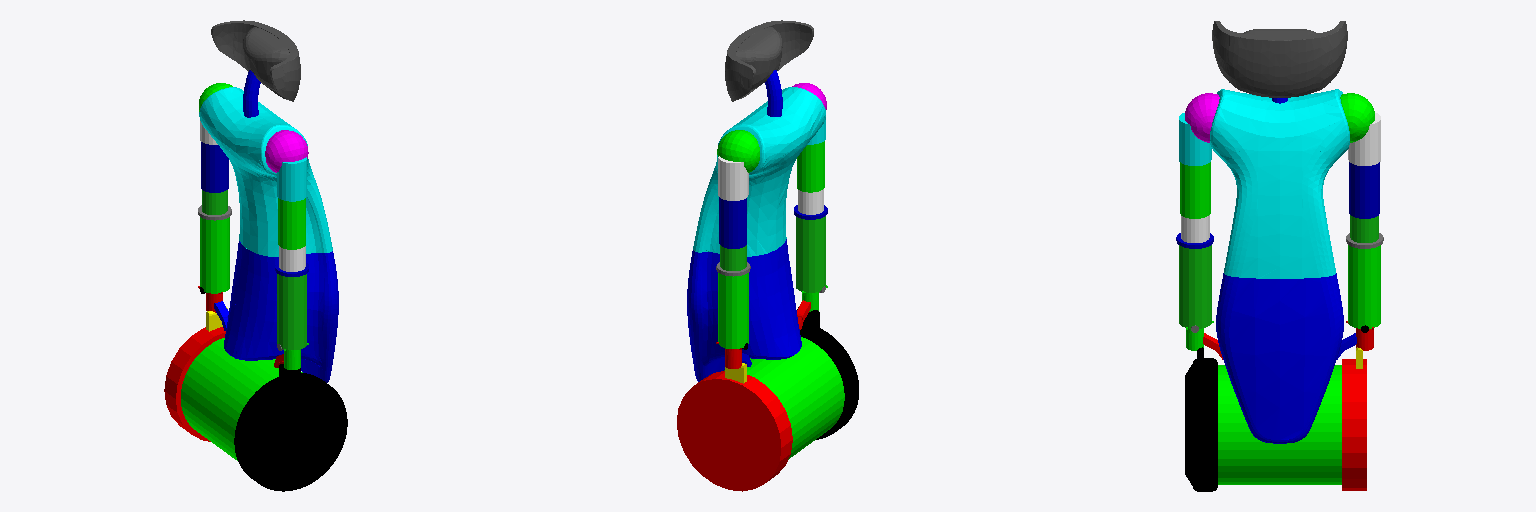
--- What the picture shows (computed from the rendered views, not written in the file) ---
The picture shows the robot from 3 angles, left to right: view 1: azimuth 30°, elevation 25°; view 2: azimuth 150°, elevation 25°; view 3: azimuth 270°, elevation 25°; orthographic projection.
Model SIM_CER_ROBOT with 48 links and 47 joints (25 revolute, 3 prismatic, 19 fixed), rooted at mobile_base_body, posed every joint at zero.
Links seen in each view (by area): view 1: mobile_base_r_tyre, torso_chest, torso_tripod_slider_eq, mobile_base_body, head, l_wrist_tripod_slider_eq, r_wrist_tripod_slider_eq, mobile_base_l_tyre, r_upperarm, l_upperarm, r_clavicle, r_shoulder (+3 smaller); view 2: mobile_base_l_tyre, torso_chest, torso_tripod_slider_eq, mobile_base_body, head, l_wrist_tripod_slider_eq, r_wrist_tripod_slider_eq, mobile_base_r_tyre, l_upperarm, r_upperarm, l_clavicle, l_shoulder (+3 smaller); view 3: torso_chest, torso_tripod_slider_eq, mobile_base_body, head, mobile_base_r_tyre, mobile_base_l_tyre, l_wrist_tripod_slider_eq, r_wrist_tripod_slider_eq, l_upperarm, r_upperarm, r_clavicle, l_clavicle (+4 smaller).
Boxes of the visible links, <box> form: mobile_base_r_tyre: <box>234,373,347,491</box>; torso_chest: <box>199,87,332,256</box>; torso_tripod_slider_eq: <box>224,241,338,382</box>; mobile_base_body: <box>181,338,302,460</box>; head: <box>211,20,300,101</box>; l_wrist_tripod_slider_eq: <box>200,217,229,293</box>; r_wrist_tripod_slider_eq: <box>277,274,306,349</box>; mobile_base_l_tyre: <box>164,327,225,441</box>; r_upperarm: <box>278,198,305,249</box>; l_upperarm: <box>201,142,228,192</box>; r_clavicle: <box>265,130,308,172</box>; r_shoulder: <box>277,157,306,201</box>; mobile_base_l_tyre: <box>677,371,792,491</box>; torso_chest: <box>693,87,825,256</box>; torso_tripod_slider_eq: <box>687,239,801,381</box>; mobile_base_body: <box>724,337,844,459</box>; head: <box>725,20,813,101</box>; l_wrist_tripod_slider_eq: <box>718,273,748,348</box>; r_wrist_tripod_slider_eq: <box>796,216,825,292</box>; mobile_base_r_tyre: <box>800,326,858,439</box>; l_upperarm: <box>719,197,746,248</box>; r_upperarm: <box>797,141,824,192</box>; l_clavicle: <box>717,130,759,172</box>; l_shoulder: <box>718,156,748,200</box>; torso_chest: <box>1210,89,1349,278</box>; torso_tripod_slider_eq: <box>1216,273,1343,443</box>; mobile_base_body: <box>1218,365,1341,484</box>; head: <box>1212,21,1347,97</box>; mobile_base_r_tyre: <box>1185,358,1217,491</box>; mobile_base_l_tyre: <box>1342,359,1366,490</box>; l_wrist_tripod_slider_eq: <box>1348,245,1380,328</box>; r_wrist_tripod_slider_eq: <box>1179,245,1211,328</box>; l_upperarm: <box>1349,162,1379,218</box>; r_upperarm: <box>1180,162,1210,218</box>; r_clavicle: <box>1185,93,1219,142</box>; l_clavicle: <box>1340,93,1374,142</box>.
Bounding box of the posed robot: 0.3563 × 0.498 × 1.22 m (x, y, z).
29 mesh visuals loaded from 29 distinct referenced files (1 binary STL, 28 ASCII STL).

URDF robot description (SIM_CER_ROBOT):
<robot name="SIM_CER_ROBOT">
  <link name="mobile_base_body">
    <inertial>
      <origin xyz="0.0167169 0 0.201998" rpy="0 0 0"/>
      <mass value="16.0"/>
      <inertia ixx="0.331884" ixy="0.0" ixz="-0.0448172" iyy="0.34974" iyz="0.0" izz="0.21095"/>
    </inertial>
    <visual>
      <origin xyz="0 0 0" rpy="0 0 0"/>
      <geometry>
        <mesh filename="model://cer/meshes/stl/sim_cer_mobilebase_body_prt.stl" scale="0.001 0.001 0.001"/>
      </geometry>
      <material name="green">
        <color rgba="0 1 0 1"/>
      </material>
    </visual>
    <collision>
      <origin xyz="0 0 0" rpy="0 0 0"/>
      <geometry>
        <mesh filename="model://cer/meshes/stl/sim_cer_mobilebase_body_prt.stl" scale="0.001 0.001 0.001"/>
      </geometry>
    </collision>
  </link>
  <link name="base_link"/>
  <joint name="base_link_fixed_joint" type="fixed">
    <origin xyz="0.074 0 0.63" rpy="0 0 0"/>
    <parent link="mobile_base_body"/>
    <child link="base_link"/>
    <dynamics damping="0.1"/>
  </joint>
  <link name="base_center"/>
  <joint name="base_center_fixed_joint" type="fixed">
    <origin xyz="0 0 0.16" rpy="0 0 0"/>
    <parent link="mobile_base_body"/>
    <child link="base_center"/>
    <dynamics damping="0.1"/>
  </joint>
  <link name="mobile_base_r_tyre">
    <inertial>
      <origin xyz="0 -0.034423 0" rpy="0 0 0"/>
      <mass value="3.0"/>
      <inertia ixx="0.0200167" ixy="0.0" ixz="0.0" iyy="0.0376153" iyz="0.0" izz="0.0200167"/>
    </inertial>
    <visual>
      <origin xyz="0 0.15 -0.16" rpy="0 0 0"/>
      <geometry>
        <mesh filename="model://cer/meshes/stl/sim_cer_mobilebase_r_tyre_prt.stl" scale="0.001 0.001 0.001"/>
      </geometry>
      <material name="black">
        <color rgba="0 0 0 1"/>
      </material>
    </visual>
    <collision>
      <origin xyz="0 0.15 -0.16" rpy="0 0 0"/>
      <geometry>
        <mesh filename="model://cer/meshes/stl/sim_cer_mobilebase_r_tyre_prt.stl" scale="0.001 0.001 0.001"/>
      </geometry>
    </collision>
  </link>
  <joint name="mobile_base_r_wheel" type="revolute">
    <origin xyz="0 -0.15 0.16" rpy="0 0 0"/>
    <axis xyz="0.0 1.0 0.0"/>
    <parent link="mobile_base_body"/>
    <child link="mobile_base_r_tyre"/>
    <limit effort="50000" lower="-17.43583922742335" upper="17.43583922742335" velocity="50000"/>
    <dynamics damping="1.0"/>
  </joint>
  <link name="mobile_base_l_tyre">
    <inertial>
      <origin xyz="0 0.034423 0" rpy="0 0 0"/>
      <mass value="3.0"/>
      <inertia ixx="0.0200167" ixy="0.0" ixz="0.0" iyy="0.0376153" iyz="0.0" izz="0.0200167"/>
    </inertial>
    <visual>
      <origin xyz="0 -0.15 -0.16" rpy="0 0 0"/>
      <geometry>
        <mesh filename="model://cer/meshes/stl/sim_cer_mobilebase_l_tyre_prt.stl" scale="0.001 0.001 0.001"/>
      </geometry>
      <material name="red">
        <color rgba="1 0 0 1"/>
      </material>
    </visual>
    <collision>
      <origin xyz="0 -0.15 -0.16" rpy="0 0 0"/>
      <geometry>
        <mesh filename="model://cer/meshes/stl/sim_cer_mobilebase_l_tyre_prt.stl" scale="0.001 0.001 0.001"/>
      </geometry>
    </collision>
  </link>
  <joint name="mobile_base_l_wheel" type="revolute">
    <origin xyz="0 0.15 0.16" rpy="0 0 0"/>
    <axis xyz="0.0 1.0 0.0"/>
    <parent link="mobile_base_body"/>
    <child link="mobile_base_l_tyre"/>
    <limit effort="50000" lower="-17.43583922742335" upper="17.43583922742335" velocity="50000"/>
    <dynamics damping="1.0"/>
  </joint>
  <link name="torso_tripod_slider_eq">
    <inertial>
      <origin xyz="0.0109861 9.13935e-06 0.236044" rpy="0 0 0"/>
      <mass value="2.5"/>
      <inertia ixx="0.0334422" ixy="0.0" ixz="0.00203295" iyy="0.0329538" iyz="2.22187e-06" izz="0.022808"/>
    </inertial>
    <visual>
      <origin xyz="-0.074 0 -0.231" rpy="0 0 0"/>
      <geometry>
        <mesh filename="model://cer/meshes/stl/sim_cer_torso_tripod_slider_eq_prt.stl" scale="0.001 0.001 0.001"/>
      </geometry>
      <material name="blue">
        <color rgba="0 0 1 1"/>
      </material>
    </visual>
    <collision>
      <origin xyz="-0.074 0 -0.231" rpy="0 0 0"/>
      <geometry>
        <mesh filename="model://cer/meshes/stl/sim_cer_torso_tripod_slider_eq_prt.stl" scale="0.001 0.001 0.001"/>
      </geometry>
    </collision>
  </link>
  <joint name="torso_tripod_heave_eq" type="prismatic">
    <origin xyz="0.074 0 0.231" rpy="0 0 0"/>
    <axis xyz="0.0 0.0 1.0"/>
    <parent link="mobile_base_body"/>
    <child link="torso_tripod_slider_eq"/>
    <limit effort="50000" lower="-0.05" upper="0.15" velocity="50000"/>
    <dynamics damping="1.0"/>
  </joint>
  <link name="torso_tripod_pin_eq">
    <inertial>
      <origin xyz="0 0 0" rpy="0 0 0"/>
      <mass value="0.25"/>
      <inertia ixx="2.8125e-05" ixy="0.0" ixz="0.0" iyy="0.000222396" iyz="0.0" izz="0.000222396"/>
    </inertial>
    <visual>
      <origin xyz="0 0 0" rpy="0 0 0"/>
      <geometry>
        <mesh filename="model://cer/meshes/stl/sim_cer_torso_tripod_pin_eq_prt.stl" scale="0.001 0.001 0.001"/>
      </geometry>
      <material name="yellow">
        <color rgba="1 1 0 1"/>
      </material>
    </visual>
    <collision>
      <origin xyz="0 0 0" rpy="0 0 0"/>
      <geometry>
        <mesh filename="model://cer/meshes/stl/sim_cer_torso_tripod_pin_eq_prt.stl" scale="0.001 0.001 0.001"/>
      </geometry>
    </collision>
  </link>
  <joint name="torso_tripod_roll_eq" type="revolute">
    <origin xyz="0 0 0.399" rpy="3.141592653589793 0 0"/>
    <axis xyz="1.0 0.0 0.0"/>
    <parent link="torso_tripod_slider_eq"/>
    <child link="torso_tripod_pin_eq"/>
    <limit effort="50000" lower="-0.5235987755982988" upper="0.5235987755982988" velocity="50000"/>
    <dynamics damping="1.0"/>
  </joint>
  <link name="torso_tripod_platform">
    <inertial>
      <origin xyz="0 0 0" rpy="0 0 0"/>
      <mass value="0.25"/>
      <inertia ixx="0.000255208" ixy="0.0" ixz="0.0" iyy="0.000255208" iyz="0.0" izz="0.00050625"/>
    </inertial>
    <visual>
      <origin xyz="-0.074 0 -0.63" rpy="0 0 0"/>
      <geometry>
        <mesh filename="model://cer/meshes/stl/sim_cer_torso_tripod_platform_prt.stl" scale="0.001 0.001 0.001"/>
      </geometry>
      <material name="pink">
        <color rgba="1 0 1 1"/>
      </material>
    </visual>
    <collision>
      <origin xyz="-0.074 0 -0.63" rpy="0 0 0"/>
      <geometry>
        <mesh filename="model://cer/meshes/stl/sim_cer_torso_tripod_platform_prt.stl" scale="0.001 0.001 0.001"/>
      </geometry>
    </collision>
  </link>
  <joint name="torso_tripod_pitch_eq" type="revolute">
    <origin xyz="0 0 0" rpy="3.141592653589793 0 0"/>
    <axis xyz="0.0 1.0 0.0"/>
    <parent link="torso_tripod_pin_eq"/>
    <child link="torso_tripod_platform"/>
    <limit effort="50000" lower="-0.5235987755982988" upper="0.5235987755982988" velocity="50000"/>
    <dynamics damping="1.0"/>
  </joint>
  <link name="oriented_xfw_ylf_zup_torso_tripod_platform"/>
  <joint name="oriented_xfw_ylf_zup_torso_tripod_platform_fixed_joint" type="fixed">
    <origin xyz="0 0 0" rpy="0 0 0"/>
    <parent link="torso_tripod_platform"/>
    <child link="oriented_xfw_ylf_zup_torso_tripod_platform"/>
    <dynamics damping="0.1"/>
  </joint>
  <link name="oriented_xbk_yrg_zup_torso_tripod_platform"/>
  <joint name="oriented_xbk_yrg_zup_torso_tripod_platform_fixed_joint" type="fixed">
    <origin xyz="0 0 0" rpy="0 0 3.141592653589793"/>
    <parent link="torso_tripod_platform"/>
    <child link="oriented_xbk_yrg_zup_torso_tripod_platform"/>
    <dynamics damping="0.1"/>
  </joint>
  <link name="torso_chest">
    <inertial>
      <origin xyz="-0.0366965 9.62228e-06 0.206634" rpy="0 0 0"/>
      <mass value="10.0"/>
      <inertia ixx="0.187606" ixy="0.0" ixz="0.0385076" iyy="0.16987" iyz="-5.48478e-06" izz="0.0906842"/>
    </inertial>
    <visual>
      <origin xyz="-0.074 0 -0.63" rpy="0 0 0"/>
      <geometry>
        <mesh filename="model://cer/meshes/stl/sim_cer_torso_chest_prt.stl" scale="0.001 0.001 0.001"/>
      </geometry>
      <material name="cyan">
        <color rgba="0 1 1 1"/>
      </material>
    </visual>
    <collision>
      <origin xyz="-0.074 0 -0.63" rpy="0 0 0"/>
      <geometry>
        <mesh filename="model://cer/meshes/stl/sim_cer_torso_chest_prt.stl" scale="0.001 0.001 0.001"/>
      </geometry>
    </collision>
  </link>
  <joint name="torso_yaw" type="revolute">
    <origin xyz="0 0 0" rpy="0 0 0"/>
    <axis xyz="0.0 0.0 1.0"/>
    <parent link="torso_tripod_platform"/>
    <child link="torso_chest"/>
    <limit effort="50000" lower="-1.0471975511965976" upper="1.0471975511965976" velocity="50000"/>
    <dynamics damping="1.0"/>
  </joint>
  <link name="torso"/>
  <joint name="torso_fixed_joint" type="fixed">
    <origin xyz="-0.042 0 0.17" rpy="0 0 0"/>
    <parent link="torso_chest"/>
    <child link="torso"/>
    <dynamics damping="0.1"/>
  </joint>
  <link name="l_clavicle">
    <inertial>
      <origin xyz="0 0 0" rpy="0 0 0"/>
      <mass value="0.2"/>
      <inertia ixx="0.000288" ixy="0.0" ixz="0.0" iyy="0.000288" iyz="0.0" izz="0.000288"/>
    </inertial>
    <visual>
      <origin xyz="0.01 -0.17 -0.97" rpy="0 0 0"/>
      <geometry>
        <mesh filename="model://cer/meshes/stl/sim_cer_l_clavicle_prt.stl" scale="0.001 0.001 0.001"/>
      </geometry>
      <material name="green"/>
    </visual>
    <collision>
      <origin xyz="0.01 -0.17 -0.97" rpy="0 0 0"/>
      <geometry>
        <mesh filename="model://cer/meshes/stl/sim_cer_l_clavicle_prt.stl" scale="0.001 0.001 0.001"/>
      </geometry>
    </collision>
  </link>
  <joint name="l_shoulder_pitch" type="revolute">
    <origin xyz="-0.084 0.17 0.34" rpy="0 0 0"/>
    <axis xyz="0.0 -0.970296 -0.241922"/>
    <parent link="torso_chest"/>
    <child link="l_clavicle"/>
    <limit effort="50000" lower="-0.3490658503988659" upper="1.7453292519943295" velocity="50000"/>
    <dynamics damping="1.0"/>
  </joint>
  <link name="l_shoulder">
    <inertial>
      <origin xyz="0 0.034 -0.055" rpy="0 0 0"/>
      <mass value="1.0"/>
      <inertia ixx="0.00140833" ixy="0.0" ixz="0.0" iyy="0.00140833" iyz="0.0" izz="0.0008"/>
    </inertial>
    <visual>
      <origin xyz="0.01 -0.17 -0.97" rpy="0 0 0"/>
      <geometry>
        <mesh filename="model://cer/meshes/stl/sim_cer_l_shoulder_prt.stl" scale="0.001 0.001 0.001"/>
      </geometry>
      <material name="white">
        <color rgba="1 1 1 1"/>
      </material>
    </visual>
    <collision>
      <origin xyz="0.01 -0.17 -0.97" rpy="0 0 0"/>
      <geometry>
        <mesh filename="model://cer/meshes/stl/sim_cer_l_shoulder_prt.stl" scale="0.001 0.001 0.001"/>
      </geometry>
    </collision>
  </link>
  <joint name="l_shoulder_roll" type="revolute">
    <origin xyz="0 0 0" rpy="0 0 0"/>
    <axis xyz="1.0 0.0 0.0"/>
    <parent link="l_clavicle"/>
    <child link="l_shoulder"/>
    <limit effort="50000" lower="-0.17453292519943295" upper="1.7453292519943295" velocity="50000"/>
    <dynamics damping="1.0"/>
  </joint>
  <link name="l_upperarm">
    <inertial>
      <origin xyz="0 0 -0.0705" rpy="0 0 0"/>
      <mass value="1.0"/>
      <inertia ixx="0.00200831" ixy="0.0" ixz="0.0" iyy="0.00200831" iyz="0.0" izz="0.000703125"/>
    </inertial>
    <visual>
      <origin xyz="0.01 -0.204 -0.86" rpy="0 0 0"/>
      <geometry>
        <mesh filename="model://cer/meshes/stl/sim_cer_l_upperarm_prt.stl" scale="0.001 0.001 0.001"/>
      </geometry>
      <material name="dblue">
        <color rgba="0 0 0.8 1"/>
      </material>
    </visual>
    <collision>
      <origin xyz="0.01 -0.204 -0.86" rpy="0 0 0"/>
      <geometry>
        <mesh filename="model://cer/meshes/stl/sim_cer_l_upperarm_prt.stl" scale="0.001 0.001 0.001"/>
      </geometry>
    </collision>
  </link>
  <joint name="l_shoulder_yaw" type="revolute">
    <origin xyz="0 0.034 -0.11" rpy="0 0 0"/>
    <axis xyz="0.0 0.0 1.0"/>
    <parent link="l_shoulder"/>
    <child link="l_upperarm"/>
    <limit effort="50000" lower="-1.5707963267948966" upper="1.5707963267948966" velocity="50000"/>
    <dynamics damping="1.0"/>
  </joint>
  <link name="l_forearm">
    <inertial>
      <origin xyz="0 0 -0.0355" rpy="0 0 0"/>
      <mass value="0.5"/>
      <inertia ixx="0.000363167" ixy="0.0" ixz="0.0" iyy="0.000363167" iyz="0.0" izz="0.00030625"/>
    </inertial>
    <visual>
      <origin xyz="0.01 -0.204 -0.719" rpy="0 0 0"/>
      <geometry>
        <mesh filename="model://cer/meshes/stl/sim_cer_l_forearm_prt.stl" scale="0.001 0.001 0.001"/>
      </geometry>
      <material name="dgreen">
        <color rgba="0.1 0.8 0.1 1"/>
      </material>
    </visual>
    <collision>
      <origin xyz="0.01 -0.204 -0.719" rpy="0 0 0"/>
      <geometry>
        <mesh filename="model://cer/meshes/stl/sim_cer_l_forearm_prt.stl" scale="0.001 0.001 0.001"/>
      </geometry>
    </collision>
  </link>
  <joint name="l_elbow" type="revolute">
    <origin xyz="0 0 -0.141" rpy="0 0 0"/>
    <axis xyz="0.0 -1.0 0.0"/>
    <parent link="l_upperarm"/>
    <child link="l_forearm"/>
    <limit effort="50000" lower="0.0" upper="2.443460952792061" velocity="50000"/>
    <dynamics damping="1.0"/>
  </joint>
  <link name="l_wrist_tripod_base">
    <inertial>
      <origin xyz="0 0 0" rpy="0 0 0"/>
      <mass value="0.2"/>
      <inertia ixx="0.000102917" ixy="0.0" ixz="0.0" iyy="0.000102917" iyz="0.0" izz="0.0002025"/>
    </inertial>
    <visual>
      <origin xyz="0.01 -0.204 -0.648" rpy="0 0 0"/>
      <geometry>
        <mesh filename="model://cer/meshes/stl/sim_cer_l_wrist_tripod_base_prt.stl" scale="0.001 0.001 0.001"/>
      </geometry>
      <material name="gray">
        <color rgba="0.5 0.5 0.5 1"/>
      </material>
    </visual>
    <collision>
      <origin xyz="0.01 -0.204 -0.648" rpy="0 0 0"/>
      <geometry>
        <mesh filename="model://cer/meshes/stl/sim_cer_l_wrist_tripod_base_prt.stl" scale="0.001 0.001 0.001"/>
      </geometry>
    </collision>
  </link>
  <joint name="l_wrist_prosupination" type="revolute">
    <origin xyz="0 0 -0.071" rpy="0 0 0"/>
    <axis xyz="0.0 0.0 1.0"/>
    <parent link="l_forearm"/>
    <child link="l_wrist_tripod_base"/>
    <limit effort="50000" lower="-1.5707963267948966" upper="1.5707963267948966" velocity="50000"/>
    <dynamics damping="1.0"/>
  </joint>
  <link name="oriented_l_wrist_tripodbase"/>
  <joint name="oriented_l_wrist_tripodbase_fixed_joint" type="fixed">
    <origin xyz="0 0 0" rpy="3.141592653589793 0 -1.5707963267948966"/>
    <parent link="l_wrist_tripod_base"/>
    <child link="oriented_l_wrist_tripodbase"/>
    <dynamics damping="0.1"/>
  </joint>
  <link name="l_wrist_tripod_slider_eq">
    <inertial>
      <origin xyz="0 0 -0.181" rpy="0 0 0"/>
      <mass value="0.2"/>
      <inertia ixx="0.000886667" ixy="0.0" ixz="0.0" iyy="0.000886667" iyz="0.0" izz="0.00016"/>
    </inertial>
    <visual>
      <origin xyz="0.01 -0.204 -0.719" rpy="0 0 0"/>
      <geometry>
        <mesh filename="model://cer/meshes/stl/sim_cer_l_wrist_tripod_slider_prt.stl" scale="0.001 0.001 0.001"/>
      </geometry>
      <material name="green"/>
    </visual>
    <collision>
      <origin xyz="0.01 -0.204 -0.719" rpy="0 0 0"/>
      <geometry>
        <mesh filename="model://cer/meshes/stl/sim_cer_l_wrist_tripod_slider_prt.stl" scale="0.001 0.001 0.001"/>
      </geometry>
    </collision>
  </link>
  <joint name="l_wrist_tripod_heave_eq" type="prismatic">
    <origin xyz="0 0 0.071" rpy="0 0 0"/>
    <axis xyz="0.0 0.0 -1.0"/>
    <parent link="l_wrist_tripod_base"/>
    <child link="l_wrist_tripod_slider_eq"/>
    <limit effort="50000" lower="0.0" upper="0.12" velocity="50000"/>
    <dynamics damping="1.0"/>
  </joint>
  <link name="l_wrist_tripod_pin_eq">
    <inertial>
      <origin xyz="0 0 0" rpy="0 0 0"/>
      <mass value="0.2"/>
      <inertia ixx="0.000111667" ixy="0.0" ixz="0.0" iyy="0.000111667" iyz="0.0" izz="1e-05"/>
    </inertial>
    <visual>
      <origin xyz="0 0 0" rpy="0 0 0"/>
      <geometry>
        <mesh filename="model://cer/meshes/stl/sim_cer_l_wrist_tripod_pin_eq_prt.stl" scale="0.001 0.001 0.001"/>
      </geometry>
      <material name="black"/>
    </visual>
    <collision>
      <origin xyz="0 0 0" rpy="0 0 0"/>
      <geometry>
        <mesh filename="model://cer/meshes/stl/sim_cer_l_wrist_tripod_pin_eq_prt.stl" scale="0.001 0.001 0.001"/>
      </geometry>
    </collision>
  </link>
  <joint name="l_wrist_tripod_roll_eq" type="revolute">
    <origin xyz="0 0 -0.291" rpy="0 1.5707963267948966 0"/>
    <axis xyz="0.0 0.0 1.0"/>
    <parent link="l_wrist_tripod_slider_eq"/>
    <child link="l_wrist_tripod_pin_eq"/>
    <limit effort="50000" lower="-0.5235987755982988" upper="0.5235987755982988" velocity="50000"/>
    <dynamics damping="1.0"/>
  </joint>
  <link name="l_hand_root">
    <inertial>
      <origin xyz="0 -0.001 -0.030193" rpy="0 0 0"/>
      <mass value="0.5"/>
      <inertia ixx="0.000277843" ixy="0.0" ixz="0.0" iyy="0.000277843" iyz="0.0" izz="0.000141191"/>
    </inertial>
    <visual>
      <origin xyz="0.01 -0.205 -0.428" rpy="0 0 0"/>
      <geometry>
        <mesh filename="model://cer/meshes/stl/sim_cer_l_hand_root_prt.stl" scale="0.001 0.001 0.001"/>
      </geometry>
      <material name="red"/>
    </visual>
    <collision>
      <origin xyz="0.01 -0.205 -0.428" rpy="0 0 0"/>
      <geometry>
        <mesh filename="model://cer/meshes/stl/sim_cer_l_hand_root_prt.stl" scale="0.001 0.001 0.001"/>
      </geometry>
    </collision>
  </link>
  <joint name="l_wrist_tripod_pitch_eq" type="revolute">
    <origin xyz="0 0.001 0" rpy="0 -1.5707963267948966 0"/>
    <axis xyz="0.0 -1.0 0.0"/>
    <parent link="l_wrist_tripod_pin_eq"/>
    <child link="l_hand_root"/>
    <limit effort="50000" lower="-0.5235987755982988" upper="0.5235987755982988" velocity="50000"/>
    <dynamics damping="1.0"/>
  </joint>
  <link name="l_wrist"/>
  <joint name="l_wrist_fixed_joint" type="fixed">
    <origin xyz="0 -0.001 0" rpy="0 0 0"/>
    <parent link="l_hand_root"/>
    <child link="l_wrist"/>
    <dynamics damping="0.1"/>
  </joint>
  <link name="l_gripper"/>
  <joint name="l_gripper_fixed_joint" type="fixed">
    <origin xyz="0 -0.024941 -0.065778" rpy="3.141592653589793 1.221730955967807 -1.5707963267948968"/>
    <parent link="l_hand_root"/>
    <child link="l_gripper"/>
    <dynamics damping="0.1"/>
  </joint>
  <link name="l_hand_thumb">
    <inertial>
      <origin xyz="0 -0.0257160000315 -0.0184639999562" rpy="0 0 0"/>
      <mass value="0.1"/>
      <inertia ixx="5.68818e-05" ixy="0.0" ixz="0.0" iyy="2.87259e-05" iyz="-2.49756e-05" izz="3.69449e-05"/>
    </inertial>
    <visual>
      <origin xyz="0.01 -0.184352 -0.385156" rpy="0 0 0"/>
      <geometry>
        <mesh filename="model://cer/meshes/stl/sim_cer_l_hand_thumb_prt.stl" scale="0.001 0.001 0.001"/>
      </geometry>
      <material name="blue"/>
    </visual>
    <collision>
      <origin xyz="0.01 -0.184352 -0.385156" rpy="0 0 0"/>
      <geometry>
        <mesh filename="model://cer/meshes/stl/sim_cer_l_hand_thumb_prt.stl" scale="0.001 0.001 0.001"/>
      </geometry>
    </collision>
  </link>
  <joint name="l_hand_thumb_joint" type="revolute">
    <origin xyz="0 -0.020648 -0.042844" rpy="0 0 0"/>
    <axis xyz="1.0 0.0 0.0"/>
    <parent link="l_hand_root"/>
    <child link="l_hand_thumb"/>
    <limit effort="50000" lower="0.0" upper="1.2217304763960306" velocity="50000"/>
    <dynamics damping="1.0"/>
  </joint>
  <link name="l_hand_thumb_tip"/>
  <joint name="l_hand_thumb_tip_fixed_joint" type="fixed">
    <origin xyz="0 -0.0513860000782 -0.0458929999125" rpy="3.141592653589793 1.2217309542643466 -1.570796326794897"/>
    <parent link="l_hand_thumb"/>
    <child link="l_hand_thumb_tip"/>
    <dynamics damping="0.1"/>
  </joint>
  <link name="l_hand_paddle">
    <inertial>
      <origin xyz="0 0 -0.0387" rpy="0 0 0"/>
      <mass value="0.1"/>
      <inertia ixx="7.95585e-05" ixy="0.0" ixz="0.0" iyy="0.000102575" iyz="0.0" izz="2.78549e-05"/>
    </inertial>
    <visual>
      <origin xyz="0.01 -0.19139 -0.360023" rpy="0 0 0"/>
      <geometry>
        <mesh filename="model://cer/meshes/stl/sim_cer_l_hand_paddle_prt.stl" scale="0.001 0.001 0.001"/>
      </geometry>
      <material name="yellow"/>
    </visual>
    <collision>
      <origin xyz="0.01 -0.19139 -0.360023" rpy="0 0 0"/>
      <geometry>
        <mesh filename="model://cer/meshes/stl/sim_cer_l_hand_paddle_prt.stl" scale="0.001 0.001 0.001"/>
      </geometry>
    </collision>
  </link>
  <joint name="l_hand_paddle_joint" type="revolute">
    <origin xyz="0 -0.01361 -0.067977" rpy="0 0 0"/>
    <axis xyz="-1.0 0.0 0.0"/>
    <parent link="l_hand_root"/>
    <child link="l_hand_paddle"/>
    <limit effort="50000" lower="0.0" upper="1.0471975511965976" velocity="50000"/>
    <dynamics damping="1.0"/>
  </joint>
  <link name="l_hand_paddle_tip"/>
  <joint name="l_hand_paddle_tip_fixed_joint" type="fixed">
    <origin xyz="0 0 -0.084994" rpy="3.141592653589793 1.221730955967807 -1.5707963267948968"/>
    <parent link="l_hand_paddle"/>
    <child link="l_hand_paddle_tip"/>
    <dynamics damping="0.1"/>
  </joint>
  <link name="r_clavicle">
    <inertial>
      <origin xyz="0 0 0" rpy="0 0 0"/>
      <mass value="0.2"/>
      <inertia ixx="0.000288" ixy="0.0" ixz="0.0" iyy="0.000288" iyz="0.0" izz="0.000288"/>
    </inertial>
    <visual>
      <origin xyz="0.01 0.17 -0.97" rpy="0 0 0"/>
      <geometry>
        <mesh filename="model://cer/meshes/stl/sim_cer_r_clavicle_prt.stl" scale="0.001 0.001 0.001"/>
      </geometry>
      <material name="pink"/>
    </visual>
    <collision>
      <origin xyz="0.01 0.17 -0.97" rpy="0 0 0"/>
      <geometry>
        <mesh filename="model://cer/meshes/stl/sim_cer_r_clavicle_prt.stl" scale="0.001 0.001 0.001"/>
      </geometry>
    </collision>
  </link>
  <joint name="r_shoulder_pitch" type="revolute">
    <origin xyz="-0.084 -0.17 0.34" rpy="0 0 0"/>
    <axis xyz="0.0 -0.970296 0.241922"/>
    <parent link="torso_chest"/>
    <child link="r_clavicle"/>
    <limit effort="50000" lower="-0.3490658503988659" upper="1.7453292519943295" velocity="50000"/>
    <dynamics damping="1.0"/>
  </joint>
  <link name="r_shoulder">
    <inertial>
      <origin xyz="0 -0.034 -0.055" rpy="0 0 0"/>
      <mass value="1.0"/>
      <inertia ixx="0.00140833" ixy="0.0" ixz="0.0" iyy="0.00140833" iyz="0.0" izz="0.0008"/>
    </inertial>
    <visual>
      <origin xyz="0.01 0.17 -0.97" rpy="0 0 0"/>
      <geometry>
        <mesh filename="model://cer/meshes/stl/sim_cer_r_shoulder_prt.stl" scale="0.001 0.001 0.001"/>
      </geometry>
      <material name="cyan"/>
    </visual>
    <collision>
      <origin xyz="0.01 0.17 -0.97" rpy="0 0 0"/>
      <geometry>
        <mesh filename="model://cer/meshes/stl/sim_cer_r_shoulder_prt.stl" scale="0.001 0.001 0.001"/>
      </geometry>
    </collision>
  </link>
  <joint name="r_shoulder_roll" type="revolute">
    <origin xyz="0 0 0" rpy="0 0 0"/>
    <axis xyz="-1.0 0.0 0.0"/>
    <parent link="r_clavicle"/>
    <child link="r_shoulder"/>
    <limit effort="50000" lower="-0.17453292519943295" upper="1.7453292519943295" velocity="50000"/>
    <dynamics damping="1.0"/>
  </joint>
  <link name="r_upperarm">
    <inertial>
      <origin xyz="0 0 -0.0705" rpy="0 0 0"/>
      <mass value="1.0"/>
      <inertia ixx="0.00200831" ixy="0.0" ixz="0.0" iyy="0.00200831" iyz="0.0" izz="0.000703125"/>
    </inertial>
    <visual>
      <origin xyz="0.01 0.204 -0.86" rpy="0 0 0"/>
      <geometry>
        <mesh filename="model://cer/meshes/stl/sim_cer_r_upperarm_prt.stl" scale="0.001 0.001 0.001"/>
      </geometry>
      <material name="green"/>
    </visual>
    <collision>
      <origin xyz="0.01 0.204 -0.86" rpy="0 0 0"/>
      <geometry>
        <mesh filename="model://cer/meshes/stl/sim_cer_r_upperarm_prt.stl" scale="0.001 0.001 0.001"/>
      </geometry>
    </collision>
  </link>
  <joint name="r_shoulder_yaw" type="revolute">
    <origin xyz="0 -0.034 -0.11" rpy="0 0 0"/>
    <axis xyz="0.0 0.0 -1.0"/>
    <parent link="r_shoulder"/>
    <child link="r_upperarm"/>
    <limit effort="50000" lower="-1.5707963267948966" upper="1.5707963267948966" velocity="50000"/>
    <dynamics damping="1.0"/>
  </joint>
  <link name="r_forearm">
    <inertial>
      <origin xyz="0 0 -0.0355" rpy="0 0 0"/>
      <mass value="0.5"/>
      <inertia ixx="0.000363167" ixy="0.0" ixz="0.0" iyy="0.000363167" iyz="0.0" izz="0.00030625"/>
    </inertial>
    <visual>
      <origin xyz="0.01 0.204 -0.719" rpy="0 0 0"/>
      <geometry>
        <mesh filename="model://cer/meshes/stl/sim_cer_r_forearm_prt.stl" scale="0.001 0.001 0.001"/>
      </geometry>
      <material name="white"/>
    </visual>
    <collision>
      <origin xyz="0.01 0.204 -0.719" rpy="0 0 0"/>
      <geometry>
        <mesh filename="model://cer/meshes/stl/sim_cer_r_forearm_prt.stl" scale="0.001 0.001 0.001"/>
      </geometry>
    </collision>
  </link>
  <joint name="r_elbow" type="revolute">
    <origin xyz="0 0 -0.141" rpy="0 0 0"/>
    <axis xyz="0.0 -1.0 0.0"/>
    <parent link="r_upperarm"/>
    <child link="r_forearm"/>
    <limit effort="50000" lower="0.0" upper="2.443460952792061" velocity="50000"/>
    <dynamics damping="1.0"/>
  </joint>
  <link name="r_wrist_tripod_base">
    <inertial>
      <origin xyz="0 0 0" rpy="0 0 0"/>
      <mass value="0.2"/>
      <inertia ixx="0.000102917" ixy="0.0" ixz="0.0" iyy="0.000102917" iyz="0.0" izz="0.0002025"/>
    </inertial>
    <visual>
      <origin xyz="0.01 0.204 -0.648" rpy="0 0 0"/>
      <geometry>
        <mesh filename="model://cer/meshes/stl/sim_cer_r_wrist_tripod_base_prt.stl" scale="0.001 0.001 0.001"/>
      </geometry>
      <material name="dblue"/>
    </visual>
    <collision>
      <origin xyz="0.01 0.204 -0.648" rpy="0 0 0"/>
      <geometry>
        <mesh filename="model://cer/meshes/stl/sim_cer_r_wrist_tripod_base_prt.stl" scale="0.001 0.001 0.001"/>
      </geometry>
    </collision>
  </link>
  <joint name="r_wrist_prosupination" type="revolute">
    <origin xyz="0 0 -0.071" rpy="0 0 0"/>
    <axis xyz="0.0 0.0 -1.0"/>
    <parent link="r_forearm"/>
    <child link="r_wrist_tripod_base"/>
    <limit effort="50000" lower="-1.5707963267948966" upper="1.5707963267948966" velocity="50000"/>
    <dynamics damping="1.0"/>
  </joint>
  <link name="oriented_r_wrist_tripodbase"/>
  <joint name="oriented_r_wrist_tripodbase_fixed_joint" type="fixed">
    <origin xyz="0 0 0" rpy="3.141592653589793 0 1.5707963267948966"/>
    <parent link="r_wrist_tripod_base"/>
    <child link="oriented_r_wrist_tripodbase"/>
    <dynamics damping="0.1"/>
  </joint>
  <link name="r_wrist_tripod_slider_eq">
    <inertial>
      <origin xyz="0 0 -0.181" rpy="0 0 0"/>
      <mass value="0.2"/>
      <inertia ixx="0.000886667" ixy="0.0" ixz="0.0" iyy="0.000886667" iyz="0.0" izz="0.00016"/>
    </inertial>
    <visual>
      <origin xyz="0.01 0.204 -0.719" rpy="0 0 0"/>
      <geometry>
        <mesh filename="model://cer/meshes/stl/sim_cer_r_wrist_tripod_slider_prt.stl" scale="0.001 0.001 0.001"/>
      </geometry>
      <material name="dgreen"/>
    </visual>
    <collision>
      <origin xyz="0.01 0.204 -0.719" rpy="0 0 0"/>
      <geometry>
        <mesh filename="model://cer/meshes/stl/sim_cer_r_wrist_tripod_slider_prt.stl" scale="0.001 0.001 0.001"/>
      </geometry>
    </collision>
  </link>
  <joint name="r_wrist_tripod_heave_eq" type="prismatic">
    <origin xyz="0 0 0.071" rpy="0 0 0"/>
    <axis xyz="0.0 0.0 -1.0"/>
    <parent link="r_wrist_tripod_base"/>
    <child link="r_wrist_tripod_slider_eq"/>
    <limit effort="50000" lower="0.0" upper="0.12" velocity="50000"/>
    <dynamics damping="1.0"/>
  </joint>
  <link name="r_wrist_tripod_pin_eq">
    <inertial>
      <origin xyz="0 0 0" rpy="0 0 0"/>
      <mass value="0.2"/>
      <inertia ixx="0.000111667" ixy="0.0" ixz="0.0" iyy="1e-05" iyz="0.0" izz="0.000111667"/>
    </inertial>
    <visual>
      <origin xyz="0 0 0" rpy="0 0 0"/>
      <geometry>
        <mesh filename="model://cer/meshes/stl/sim_cer_r_wrist_tripod_pin_eq_prt.stl" scale="0.001 0.001 0.001"/>
      </geometry>
      <material name="gray"/>
    </visual>
    <collision>
      <origin xyz="0 0 0" rpy="0 0 0"/>
      <geometry>
        <mesh filename="model://cer/meshes/stl/sim_cer_r_wrist_tripod_pin_eq_prt.stl" scale="0.001 0.001 0.001"/>
      </geometry>
    </collision>
  </link>
  <joint name="r_wrist_tripod_roll_eq" type="revolute">
    <origin xyz="0 0 -0.291" rpy="3.141592653589793 0 1.5707963267948966"/>
    <axis xyz="0.0 -1.0 0.0"/>
    <parent link="r_wrist_tripod_slider_eq"/>
    <child link="r_wrist_tripod_pin_eq"/>
    <limit effort="50000" lower="-0.5235987755982988" upper="0.5235987755982988" velocity="50000"/>
    <dynamics damping="1.0"/>
  </joint>
  <link name="r_hand_root">
    <inertial>
      <origin xyz="0 -0.001 -0.030193" rpy="0 0 0"/>
      <mass value="0.5"/>
      <inertia ixx="0.000277843" ixy="0.0" ixz="0.0" iyy="0.000277843" iyz="0.0" izz="0.000141191"/>
    </inertial>
    <visual>
      <origin xyz="0.01 0.203 -0.428" rpy="0 0 0"/>
      <geometry>
        <mesh filename="model://cer/meshes/stl/sim_cer_r_hand_root_prt.stl" scale="0.001 0.001 0.001"/>
      </geometry>
      <material name="green"/>
    </visual>
    <collision>
      <origin xyz="0.01 0.203 -0.428" rpy="0 0 0"/>
      <geometry>
        <mesh filename="model://cer/meshes/stl/sim_cer_r_hand_root_prt.stl" scale="0.001 0.001 0.001"/>
      </geometry>
    </collision>
  </link>
  <joint name="r_wrist_tripod_pitch_eq" type="revolute">
    <origin xyz="0.001 0 0" rpy="3.141592653589793 0 1.5707963267948966"/>
    <axis xyz="0.0 -1.0 0.0"/>
    <parent link="r_wrist_tripod_pin_eq"/>
    <child link="r_hand_root"/>
    <limit effort="50000" lower="-0.5235987755982988" upper="0.5235987755982988" velocity="50000"/>
    <dynamics damping="1.0"/>
  </joint>
  <link name="r_wrist"/>
  <joint name="r_wrist_fixed_joint" type="fixed">
    <origin xyz="0 -0.001 0" rpy="0 0 0"/>
    <parent link="r_hand_root"/>
    <child link="r_wrist"/>
    <dynamics damping="0.1"/>
  </joint>
  <link name="r_gripper"/>
  <joint name="r_gripper_fixed_joint" type="fixed">
    <origin xyz="0 0.022941 -0.065778" rpy="0 1.221730955967806 1.5707963267948957"/>
    <parent link="r_hand_root"/>
    <child link="r_gripper"/>
    <dynamics damping="0.1"/>
  </joint>
  <link name="r_hand_paddle">
    <inertial>
      <origin xyz="0 0 -0.0387" rpy="0 0 0"/>
      <mass value="0.1"/>
      <inertia ixx="7.95585e-05" ixy="0.0" ixz="0.0" iyy="0.000102575" iyz="0.0" izz="2.78549e-05"/>
    </inertial>
    <visual>
      <origin xyz="0.01 0.19139 -0.360023" rpy="0 0 0"/>
      <geometry>
        <mesh filename="model://cer/meshes/stl/sim_cer_r_hand_paddle_prt.stl" scale="0.001 0.001 0.001"/>
      </geometry>
      <material name="black"/>
    </visual>
    <collision>
      <origin xyz="0.01 0.19139 -0.360023" rpy="0 0 0"/>
      <geometry>
        <mesh filename="model://cer/meshes/stl/sim_cer_r_hand_paddle_prt.stl" scale="0.001 0.001 0.001"/>
      </geometry>
    </collision>
  </link>
  <joint name="r_hand_paddle_joint" type="revolute">
    <origin xyz="0 0.01161 -0.067977" rpy="0 0 0"/>
    <axis xyz="1.0 0.0 0.0"/>
    <parent link="r_hand_root"/>
    <child link="r_hand_paddle"/>
    <limit effort="50000" lower="0.0" upper="1.0471975511965976" velocity="50000"/>
    <dynamics damping="1.0"/>
  </joint>
  <link name="r_hand_paddle_tip"/>
  <joint name="r_hand_paddle_tip_fixed_joint" type="fixed">
    <origin xyz="0 0 -0.084994" rpy="0 1.221730955967806 1.5707963267948957"/>
    <parent link="r_hand_paddle"/>
    <child link="r_hand_paddle_tip"/>
    <dynamics damping="0.1"/>
  </joint>
  <link name="r_hand_thumb">
    <inertial>
      <origin xyz="0 0.025716 -0.018464" rpy="0 0 0"/>
      <mass value="0.1"/>
      <inertia ixx="5.68818e-05" ixy="0.0" ixz="0.0" iyy="2.8726e-05" iyz="2.49756e-05" izz="3.69448e-05"/>
    </inertial>
    <visual>
      <origin xyz="0.01 0.184352 -0.385156" rpy="0 0 0"/>
      <geometry>
        <mesh filename="model://cer/meshes/stl/sim_cer_r_hand_thumb_prt.stl" scale="0.001 0.001 0.001"/>
      </geometry>
      <material name="red"/>
    </visual>
    <collision>
      <origin xyz="0.01 0.184352 -0.385156" rpy="0 0 0"/>
      <geometry>
        <mesh filename="model://cer/meshes/stl/sim_cer_r_hand_thumb_prt.stl" scale="0.001 0.001 0.001"/>
      </geometry>
    </collision>
  </link>
  <joint name="r_hand_thumb_joint" type="revolute">
    <origin xyz="0 0.018648 -0.042844" rpy="0 0 0"/>
    <axis xyz="-1.0 0.0 0.0"/>
    <parent link="r_hand_root"/>
    <child link="r_hand_thumb"/>
    <limit effort="50000" lower="0.0" upper="1.2217304763960306" velocity="50000"/>
    <dynamics damping="1.0"/>
  </joint>
  <link name="r_hand_thumb_tip"/>
  <joint name="r_hand_thumb_tip_fixed_joint" type="fixed">
    <origin xyz="0 0.051386 -0.045893" rpy="0 1.221730955967806 1.5707963267948957"/>
    <parent link="r_hand_thumb"/>
    <child link="r_hand_thumb_tip"/>
    <dynamics damping="0.1"/>
  </joint>
  <link name="neck">
    <inertial>
      <origin xyz="0.0056578 -0.000646677 0.06232" rpy="0 0 0"/>
      <mass value="0.5"/>
      <inertia ixx="0.00110442" ixy="0.0" ixz="-6.96774e-05" iyy="0.00111727" iyz="0.0" izz="0.000112854"/>
    </inertial>
    <visual>
      <origin xyz="0.02 -0.000646677 -1.0" rpy="0 0 0"/>
      <geometry>
        <mesh filename="model://cer/meshes/stl/sim_cer_neck_prt.stl" scale="0.001 0.001 0.001"/>
      </geometry>
      <material name="blue"/>
    </visual>
    <collision>
      <origin xyz="0.02 -0.000646677 -1.0" rpy="0 0 0"/>
      <geometry>
        <mesh filename="model://cer/meshes/stl/sim_cer_neck_prt.stl" scale="0.001 0.001 0.001"/>
      </geometry>
    </collision>
  </link>
  <joint name="neck_pitch" type="revolute">
    <origin xyz="-0.094 0.000646677 0.37" rpy="0 0 0"/>
    <axis xyz="0.0 1.0 0.0"/>
    <parent link="torso_chest"/>
    <child link="neck"/>
    <limit effort="50000" lower="-0.5235987755982988" upper="1.3962634015954636" velocity="50000"/>
    <dynamics damping="1.0"/>
  </joint>
  <link name="head">
    <inertial>
      <origin xyz="0.04865391 -1.77681e-06 -0.00409" rpy="0 0 0"/>
      <mass value="2.0"/>
      <inertia ixx="0.0133792" ixy="-1.68274e-07" ixz="0.000330609" iyy="0.00439722" iyz="0.0" izz="0.0119116"/>
    </inertial>
    <visual>
      <origin xyz="0.00832051 0 -1.15838" rpy="0 0 0"/>
      <geometry>
        <mesh filename="model://cer/meshes/stl/sim_cer_head_prt.stl" scale="0.001 0.001 0.001"/>
      </geometry>
      <material name="head_color">
        <color rgba="0.368932 0.368932 0.368932 1.0"/>
      </material>
    </visual>
    <collision>
      <origin xyz="0.00832051 0 -1.15838" rpy="0 0 0"/>
      <geometry>
        <mesh filename="model://cer/meshes/stl/sim_cer_head_prt.stl" scale="0.001 0.001 0.001"/>
      </geometry>
    </collision>
  </link>
  <joint name="neck_yaw" type="revolute">
    <origin xyz="0.01167949 -0.000646677 0.15838" rpy="0 0 0"/>
    <axis xyz="0.173648 0.0 0.984808"/>
    <parent link="neck"/>
    <child link="head"/>
    <limit effort="50000" lower="-1.3962634015954636" upper="1.3962634015954636" velocity="50000"/>
    <dynamics damping="1.0"/>
  </joint>
  <link name="asus_xtion"/>
  <joint name="asus_xtion_fixed_joint" type="fixed">
    <origin xyz="0.07702051 0 0.04662" rpy="0 0 0"/>
    <parent link="head"/>
    <child link="asus_xtion"/>
    <dynamics damping="0.1"/>
  </joint>
  <link name="right_camera"/>
  <joint name="right_camera_fixed_joint" type="fixed">
    <origin xyz="0.06682051 -0.0325 -0.06838" rpy="0 0 0"/>
    <parent link="head"/>
    <child link="right_camera"/>
    <dynamics damping="0.1"/>
  </joint>
  <link name="left_camera"/>
  <joint name="left_camera_fixed_joint" type="fixed">
    <origin xyz="0.06682051 0.0325 -0.06838" rpy="0 0 0"/>
    <parent link="head"/>
    <child link="left_camera"/>
    <dynamics damping="0.1"/>
  </joint>
  <link name="gaze"/>
  <joint name="gaze_fixed_joint" type="fixed">
    <origin xyz="0 0 0" rpy="0 0 0"/>
    <parent link="head"/>
    <child link="gaze"/>
    <dynamics damping="0.1"/>
  </joint>
  <gazebo reference="head">
    <sensor name="left_camera" type="camera">
      <always_on>1</always_on>
      <update_rate>30</update_rate>
      <pose>0.06682051 0.0325 -0.06838 0.0 -0.0 0.0</pose>
      <camera>
    <horizontal_fov>1.5708</horizontal_fov>
    <image>
        <width>320</width>
        <height>240</height>
    </image>
    <clip>
        <near>0.1</near>
        <far>100</far>
    </clip>
</camera>
      <plugin filename="libgazebo_yarp_camera.so" name="left_camera_plugin">
    <yarpConfigurationFile>model://cer/conf/gazebo_cer_left_camera.ini</yarpConfigurationFile>
</plugin>
    </sensor>
  </gazebo>
  <gazebo reference="head">
    <sensor name="right_camera" type="camera">
      <always_on>1</always_on>
      <update_rate>30</update_rate>
      <pose>0.06682051 -0.0325 -0.06838 0.0 -0.0 0.0</pose>
      <camera>
    <horizontal_fov>1.5708</horizontal_fov>
    <image>
        <width>320</width>
        <height>240</height>
    </image>
    <clip>
        <near>0.1</near>
        <far>100</far>
    </clip>
</camera>
      <plugin filename="libgazebo_yarp_camera.so" name="right_camera_plugin">
    <yarpConfigurationFile>model://cer/conf/gazebo_cer_right_camera.ini</yarpConfigurationFile>
</plugin>
    </sensor>
  </gazebo>
  <gazebo reference="head">
    <sensor name="asus_xtion" type="depth">
      <always_on>1</always_on>
      <update_rate>30</update_rate>
      <pose>0.07702051 0.0 0.04662 0.0 -0.0 0.0</pose>
      <camera>
    <horizontal_fov>1.3962634</horizontal_fov>
    <image>
        <width>320</width>
        <height>240</height>
        <format>R8G8B8</format>
    </image>
    <clip>
        <near>0.02</near>
        <far>3000</far>
    </clip>
</camera>
      <plugin filename="libgazebo_yarp_depthCamera.so" name="depth_camera_plugin">
    <yarpConfigurationFile>model://cer/conf/gazebo_cer_depthCamera.ini</yarpConfigurationFile>
</plugin>
    </sensor>
  </gazebo>
  <gazebo>
<plugin name="controlboard_torso_yaw" filename="libgazebo_yarp_controlboard.so">
  <yarpConfigurationFile>model://cer/conf/gazebo_cer_torso_yaw.ini</yarpConfigurationFile>
</plugin>

<!-- TORSO user view -->
<plugin name="controlboard_torso" filename="libgazebo_yarp_controlboard.so">
  <yarpConfigurationFile>model://cer/conf/gazebo_cer_torso.ini</yarpConfigurationFile>
</plugin>
<!-- TORSO low level view -->
<plugin name="controlboard_torso_tripod" filename="libgazeboTripod.so">
  <yarpConfigurationFile>model://cer/conf/gazebo_cer_torso_tripod.ini</yarpConfigurationFile>
</plugin>


<plugin name="controlboard_left_upper_arm" filename="libgazebo_yarp_controlboard.so">
  <yarpConfigurationFile>model://cer/conf/gazebo_cer_left_upper_arm.ini</yarpConfigurationFile>
</plugin>
<!-- LEFT WRIST user view -->
<plugin name="controlboard_left_wrist" filename="libgazebo_yarp_controlboard.so">
  <yarpConfigurationFile>model://cer/conf/gazebo_cer_left_wrist.ini</yarpConfigurationFile>
</plugin>
<!-- LEFT WRIST low level view -->
<plugin name="controlboard_left_wrist_tripod" filename="libgazeboTripod.so">
  <yarpConfigurationFile>model://cer/conf/gazebo_cer_left_wrist_tripod.ini</yarpConfigurationFile>
</plugin>


<plugin name="controlboard_right_upper_arm" filename="libgazebo_yarp_controlboard.so">
  <yarpConfigurationFile>model://cer/conf/gazebo_cer_right_upper_arm.ini</yarpConfigurationFile>
</plugin>
<!-- RIGHT WRIST user view -->
<plugin name="controlboard_right_wrist" filename="libgazebo_yarp_controlboard.so">
  <yarpConfigurationFile>model://cer/conf/gazebo_cer_right_wrist.ini</yarpConfigurationFile>
</plugin>
<!-- RIGHT WRIST low level view -->
<plugin name="controlboard_right_wrist_tripod" filename="libgazeboTripod.so">
  <yarpConfigurationFile>model://cer/conf/gazebo_cer_right_wrist_tripod.ini</yarpConfigurationFile>
</plugin>


<plugin name="controlboard_head" filename="libgazebo_yarp_controlboard.so">
  <yarpConfigurationFile>model://cer/conf/gazebo_cer_head.ini</yarpConfigurationFile>
</plugin>

<plugin name="controlboard_left_hand" filename="libgazebo_yarp_controlboard.so">
  <yarpConfigurationFile>model://cer/conf/gazebo_cer_left_hand.ini</yarpConfigurationFile>
</plugin>

<plugin name="controlboard_right_hand" filename="libgazebo_yarp_controlboard.so">
  <yarpConfigurationFile>model://cer/conf/gazebo_cer_right_hand.ini</yarpConfigurationFile>
</plugin>

<plugin name="controlboard_mobile_base" filename="libgazebo_yarp_controlboard.so">
  <yarpConfigurationFile>model://cer/conf/gazebo_cer_mobile_base.ini</yarpConfigurationFile>
</plugin>
<plugin name="controlboard_all" filename="libgazebo_yarp_controlboard.so">
  <yarpConfigurationFile>model://cer/conf/gazebo_cer_all.ini</yarpConfigurationFile>
</plugin>
</gazebo>
  <gazebo reference="mobile_base_l_wheel">
  <implicitSpringDamper>1</implicitSpringDamper>
</gazebo>
  <gazebo reference="mobile_base_r_wheel">
  <implicitSpringDamper>1</implicitSpringDamper>
</gazebo>
  <gazebo reference="torso_tripod_heave_eq">
  <implicitSpringDamper>1</implicitSpringDamper>
</gazebo>
  <gazebo reference="torso_tripod_roll_eq">
  <implicitSpringDamper>1</implicitSpringDamper>
</gazebo>
  <gazebo reference="torso_tripod_pitch_eq">
  <implicitSpringDamper>1</implicitSpringDamper>
</gazebo>
  <gazebo reference="torso_yaw">
  <implicitSpringDamper>1</implicitSpringDamper>
</gazebo>
  <gazebo reference="neck_pitch">
  <implicitSpringDamper>1</implicitSpringDamper>
</gazebo>
  <gazebo reference="neck_yaw">
  <implicitSpringDamper>1</implicitSpringDamper>
</gazebo>
  <gazebo reference="l_shoulder_pitch">
  <implicitSpringDamper>1</implicitSpringDamper>
</gazebo>
  <gazebo reference="l_shoulder_roll">
  <implicitSpringDamper>1</implicitSpringDamper>
</gazebo>
  <gazebo reference="l_shoulder_yaw">
  <implicitSpringDamper>1</implicitSpringDamper>
</gazebo>
  <gazebo reference="l_elbow">
  <implicitSpringDamper>1</implicitSpringDamper>
</gazebo>
  <gazebo reference="l_wrist_prosupination">
  <implicitSpringDamper>1</implicitSpringDamper>
</gazebo>
  <gazebo reference="l_wrist_tripod_heave_eq">
  <implicitSpringDamper>1</implicitSpringDamper>
</gazebo>
  <gazebo reference="l_wrist_tripod_roll_eq">
  <implicitSpringDamper>1</implicitSpringDamper>
</gazebo>
  <gazebo reference="l_wrist_tripod_pitch_eq">
  <implicitSpringDamper>1</implicitSpringDamper>
</gazebo>
  <gazebo reference="l_hand_paddle_joint">
  <implicitSpringDamper>1</implicitSpringDamper>
</gazebo>
  <gazebo reference="l_hand_thumb_joint">
  <implicitSpringDamper>1</implicitSpringDamper>
</gazebo>
  <gazebo reference="r_shoulder_pitch">
  <implicitSpringDamper>1</implicitSpringDamper>
</gazebo>
  <gazebo reference="r_shoulder_roll">
  <implicitSpringDamper>1</implicitSpringDamper>
</gazebo>
  <gazebo reference="r_shoulder_yaw">
  <implicitSpringDamper>1</implicitSpringDamper>
</gazebo>
  <gazebo reference="r_elbow">
  <implicitSpringDamper>1</implicitSpringDamper>
</gazebo>
  <gazebo reference="r_wrist_prosupination">
  <implicitSpringDamper>1</implicitSpringDamper>
</gazebo>
  <gazebo reference="r_wrist_tripod_heave_eq">
  <implicitSpringDamper>1</implicitSpringDamper>
</gazebo>
  <gazebo reference="r_wrist_tripod_roll_eq">
  <implicitSpringDamper>1</implicitSpringDamper>
</gazebo>
  <gazebo reference="r_wrist_tripod_pitch_eq">
  <implicitSpringDamper>1</implicitSpringDamper>
</gazebo>
  <gazebo reference="r_hand_paddle_joint">
  <implicitSpringDamper>1</implicitSpringDamper>
</gazebo>
  <gazebo reference="r_hand_thumb_joint">
  <implicitSpringDamper>1</implicitSpringDamper>
</gazebo>
</robot>
